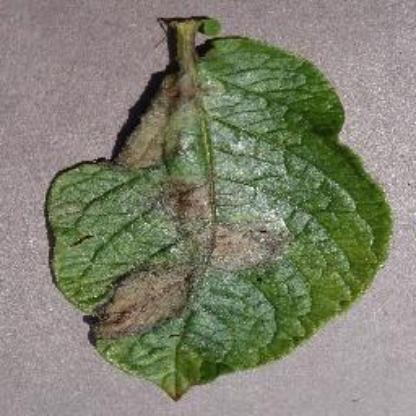Late-Blight: (30, 12, 397, 404)
